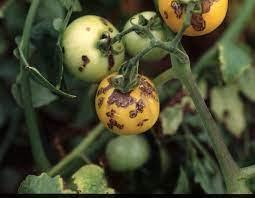tomato bacterial spot: (63, 16, 125, 90), (97, 70, 161, 137), (155, 1, 228, 38)
